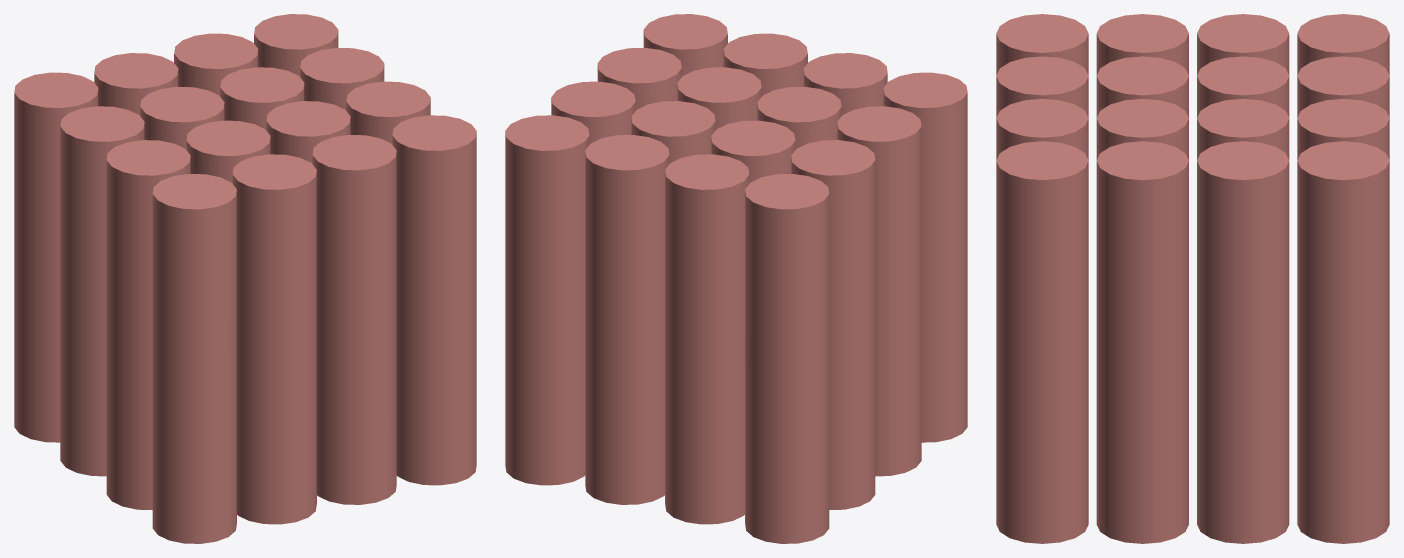
Rendered from hamburguesa.glb.
3 renders of one model, left to right at view 1: azimuth 30°, elevation 25°; view 2: azimuth 150°, elevation 25°; view 3: azimuth 270°, elevation 25°, orthographic. The views are drawn at different scales.
Visible parts, largest first — view 1: Hamburguesas; view 2: Hamburguesas; view 3: Hamburguesas.
Part boxes in pixels (left/top/right/bottom): Hamburguesas: left=14, top=14, right=476, bottom=543; Hamburguesas: left=505, top=14, right=967, bottom=543; Hamburguesas: left=996, top=14, right=1389, bottom=543.
Bounding box in the file's own units: 0.98 × 1 × 0.98.
